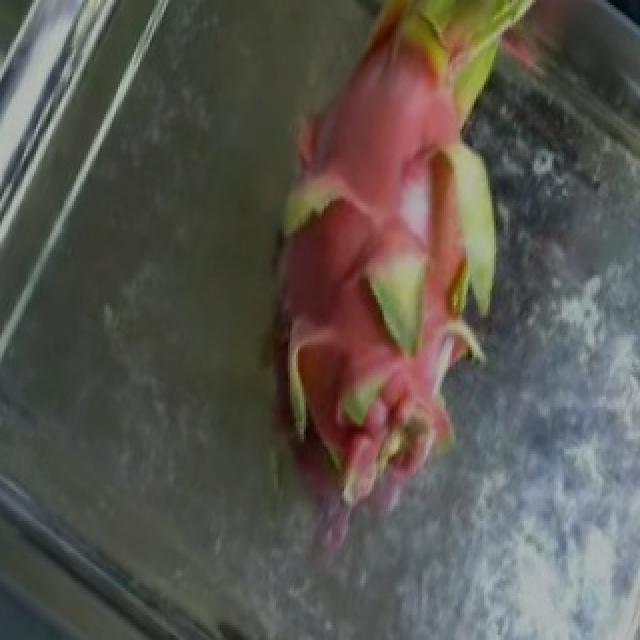fruit: (206, 3, 634, 439)
